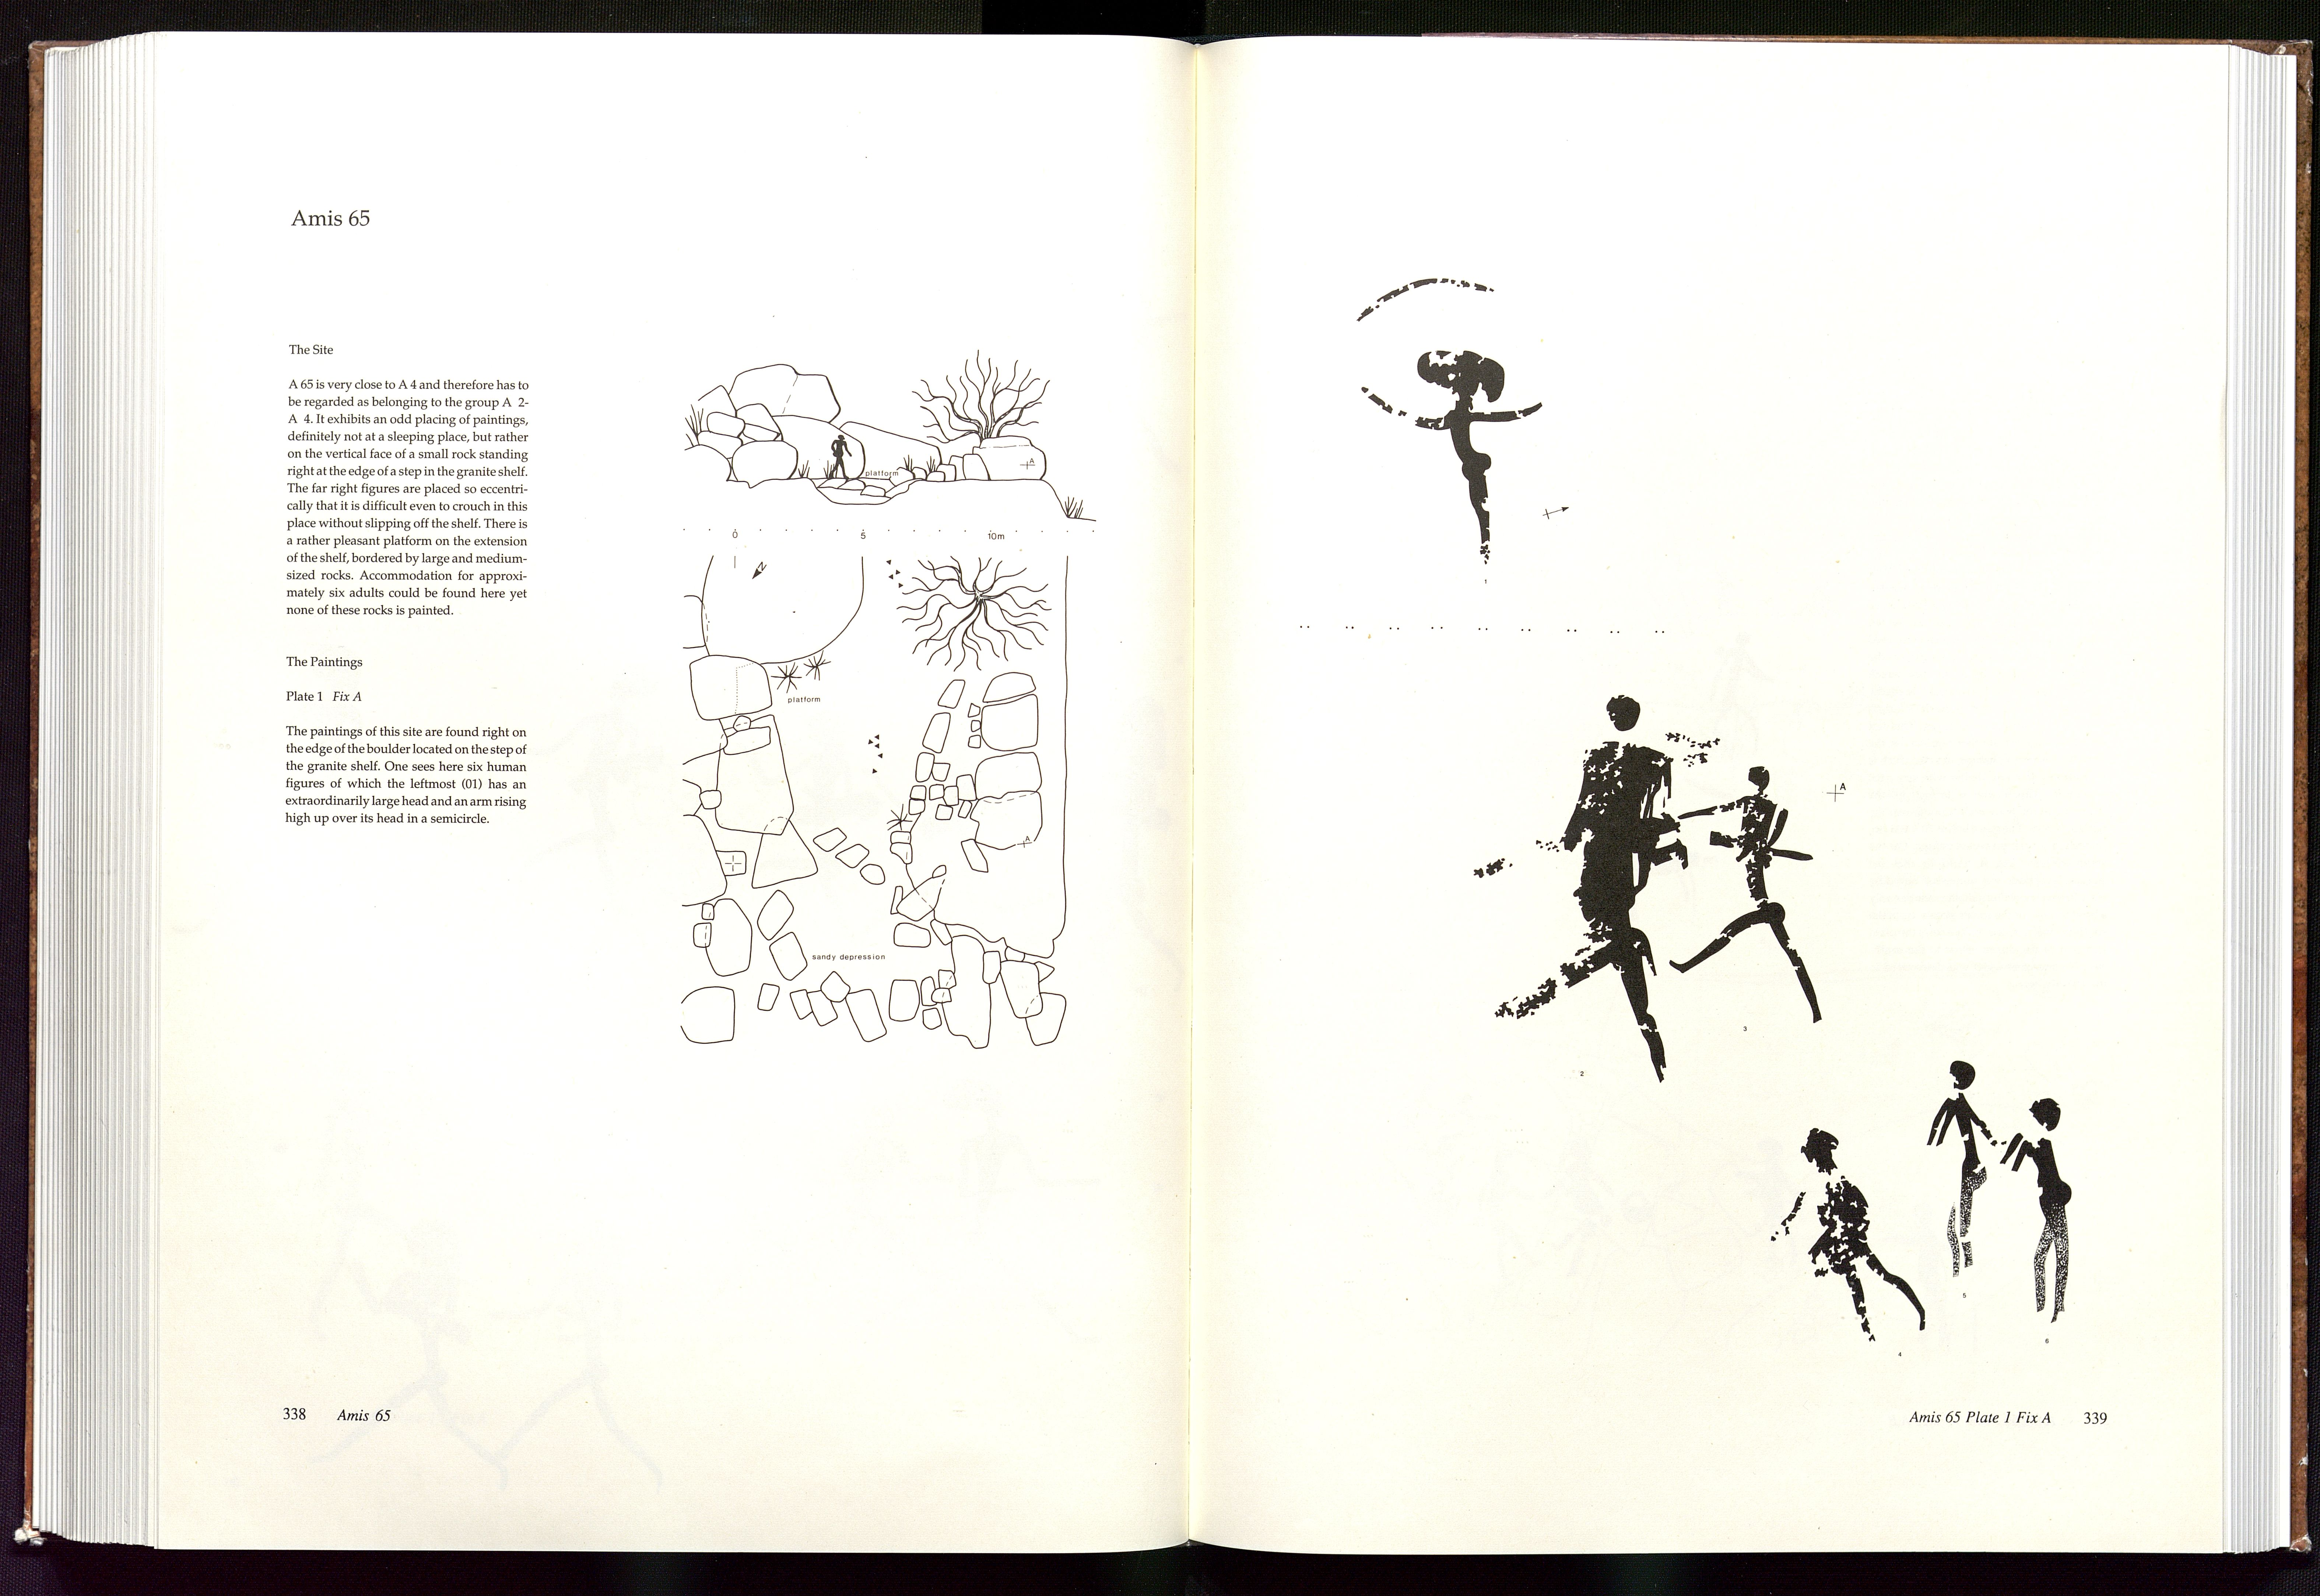human: (1466, 687, 1696, 1092), (1341, 266, 1554, 590), (1646, 755, 1834, 1034), (1764, 1118, 1935, 1355), (1997, 1082, 2087, 1330), (1921, 1055, 2003, 1287)
